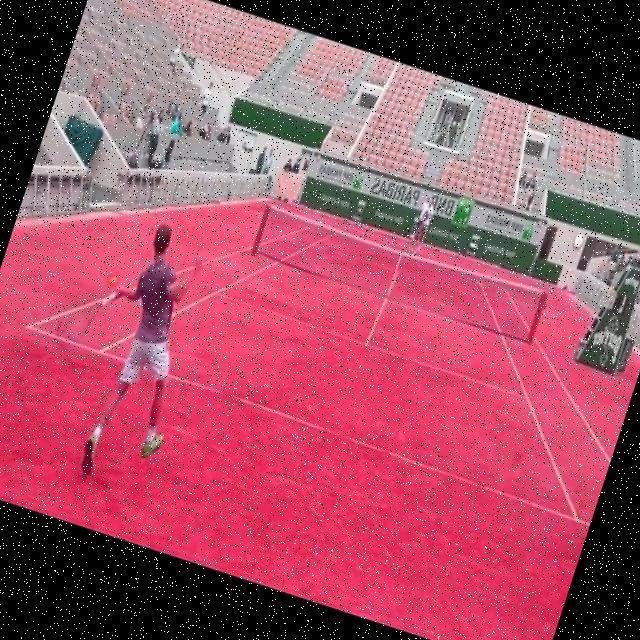court: (18, 149, 640, 527)
net: (245, 200, 552, 351)
player: (14, 199, 228, 497)
